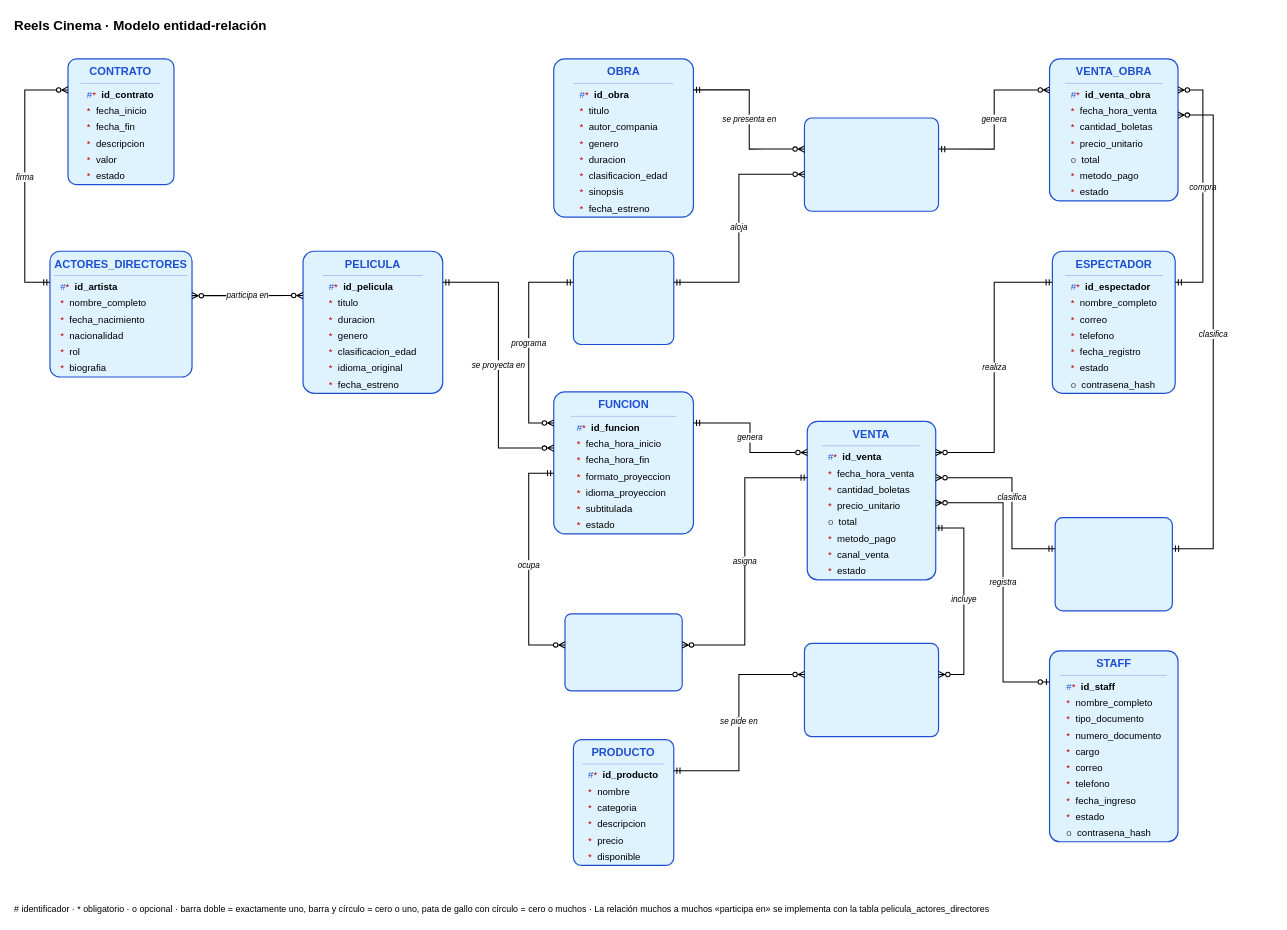
Image size: 1287x930. Some labels were removed from this diagram. Each missing label, with the box of its shape:
FUNCION_OBRA # * id_funcion_obra * fecha_hora_inicio * fecha_hora_fin * estado: (803, 117, 939, 211)
SALA # * id_sala * numero_sala * capacidad * estado: (572, 250, 674, 345)
SILLA_VENTA # * id_silla_venta * fila * numero: (564, 613, 682, 691)
TIPO_BOLETA # * id_tipo_boleta * categoria * descripcion * precio: (1054, 517, 1173, 611)
VENTA_PRODUCTO # * id_venta_producto * cantidad * precio_unitario o subtotal: (803, 642, 939, 737)
